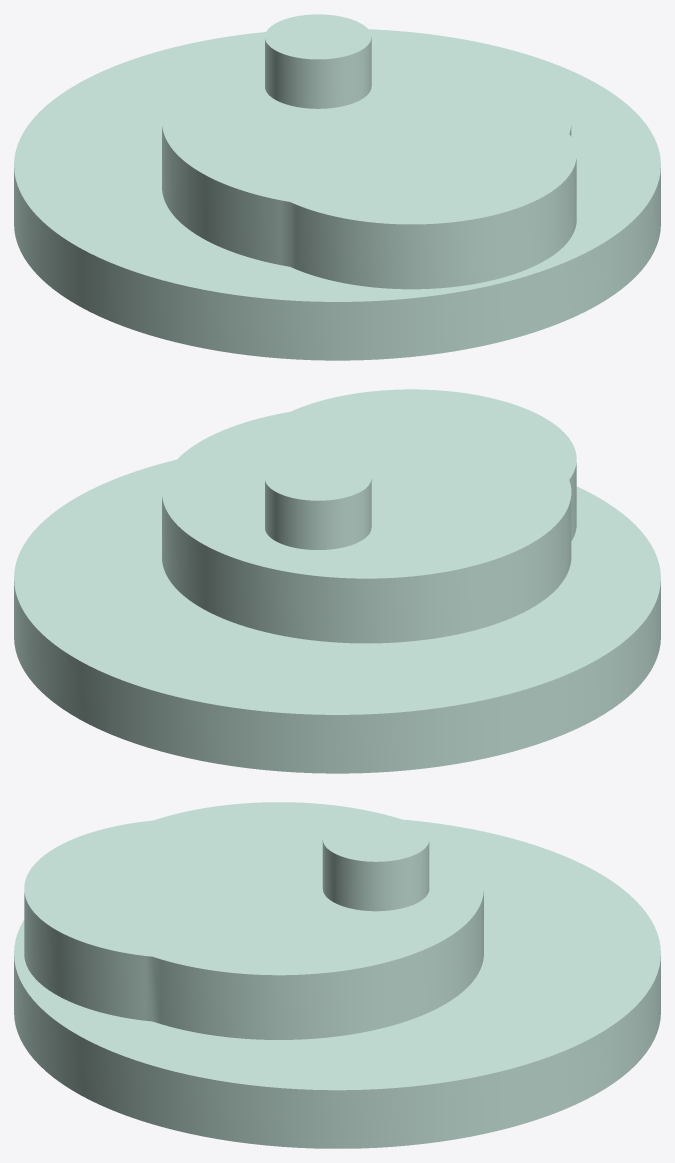
3 views of the same model, one above another, from view 1: azimuth 30°, elevation 25°; view 2: azimuth 150°, elevation 25°; view 3: azimuth 270°, elevation 25° (orthographic).
Visible parts, largest first — view 1: Renderer Node; view 2: Renderer Node; view 3: Renderer Node.
Boxes of the visible parts, x1,y1,x2,y2 form: Renderer Node: (14,14,660,360); Renderer Node: (14,389,660,773); Renderer Node: (14,802,660,1148).
Bounding box in the file's own units: 1.48 × 0.4375 × 1.48.
